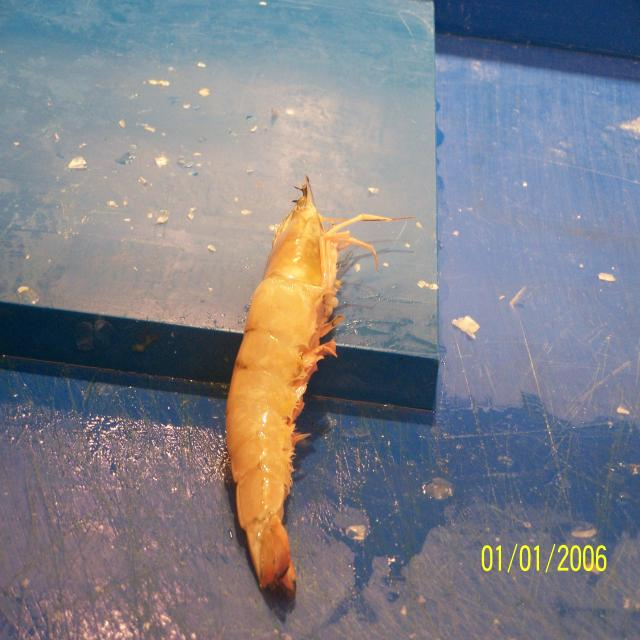Shrimp-karides-: (224, 180, 389, 608)
